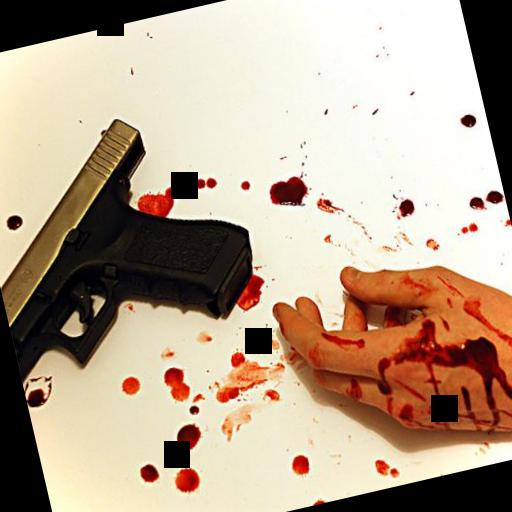Handgun: (0, 92, 265, 381)
